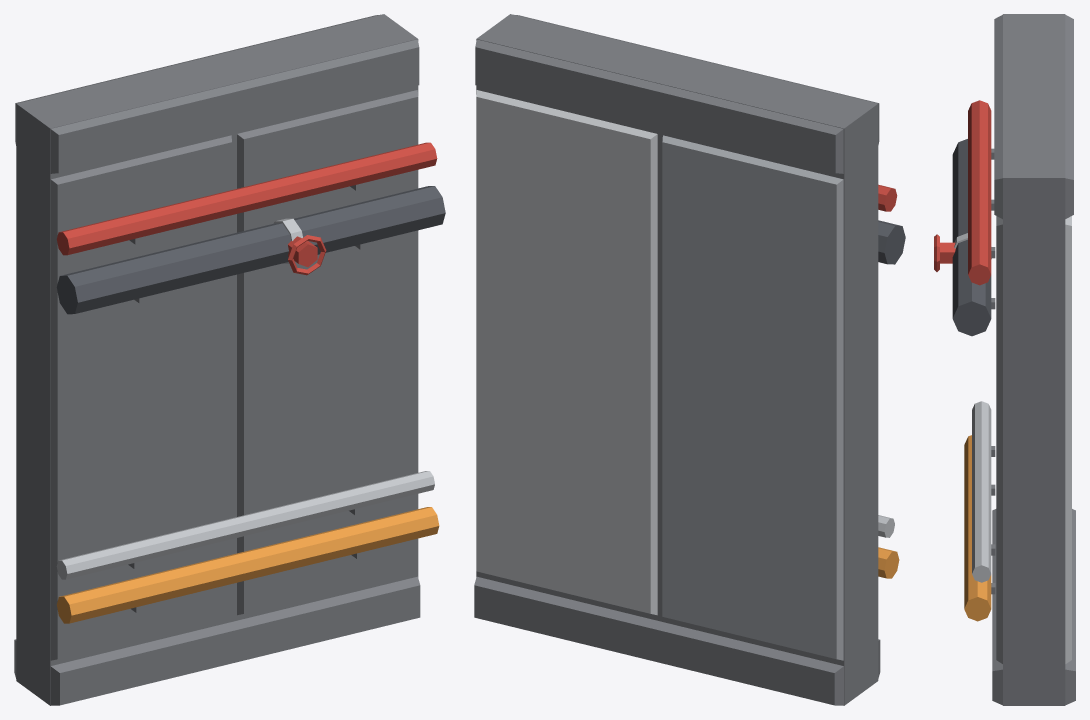
The model's file is SM_Wall_Pipes.glb.
The picture shows the model from 3 angles, left to right: view 1: azimuth 30°, elevation 25°; view 2: azimuth 150°, elevation 25°; view 3: azimuth 270°, elevation 25°; orthographic projection. The views are drawn at different scales.
Visible parts, largest first — view 1: SM_Wall_Pipes; view 2: SM_Wall_Pipes; view 3: SM_Wall_Pipes.
Boxes of the visible parts, <box> form: SM_Wall_Pipes: <box>14,14,445,705</box>; SM_Wall_Pipes: <box>474,14,905,705</box>; SM_Wall_Pipes: <box>934,14,1075,705</box>.
Bounding box in the file's own units: 2 × 3 × 0.73.
